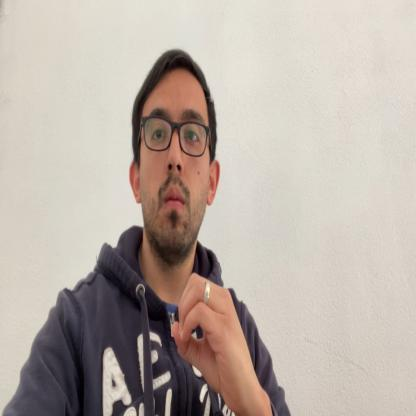O: (172, 274, 247, 409)
